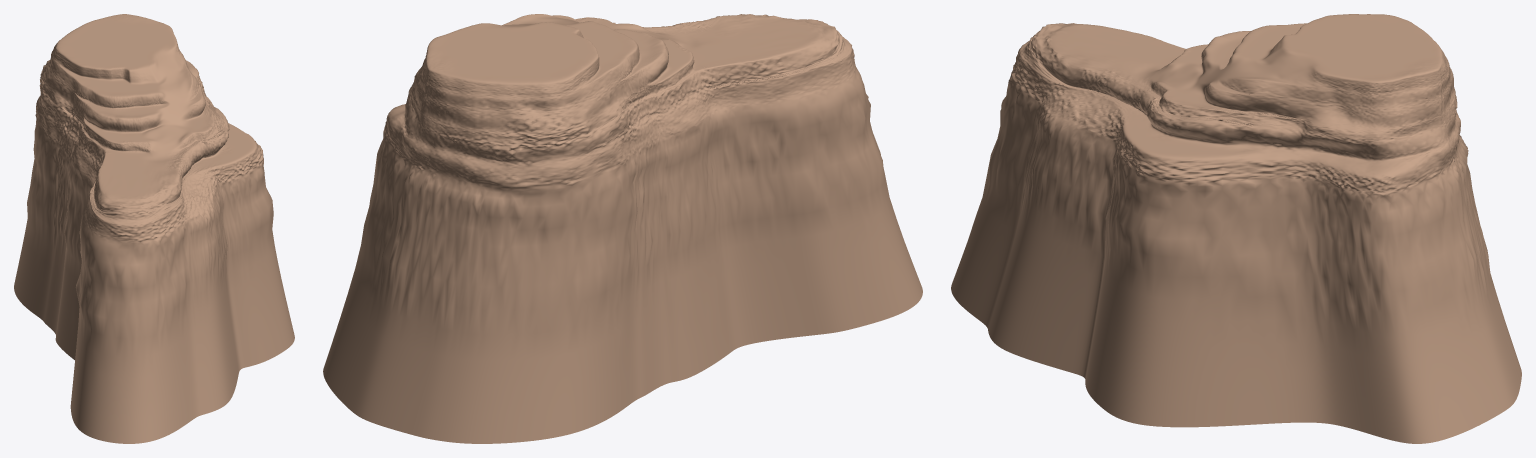
Rendered from SM_Island5.fbx.
3 views of the same model, side by side, from view 1: azimuth 30°, elevation 25°; view 2: azimuth 150°, elevation 25°; view 3: azimuth 270°, elevation 25° (orthographic). The views are drawn at different scales.
Visible parts, largest first — view 1: Island5; view 2: Island5; view 3: Island5.
Boxes of the visible parts, <box> form: Island5: <box>14,14,294,443</box>; Island5: <box>323,14,922,443</box>; Island5: <box>951,14,1521,443</box>.
Size of the model in its own units: 2344 by 1933 by 3101.
